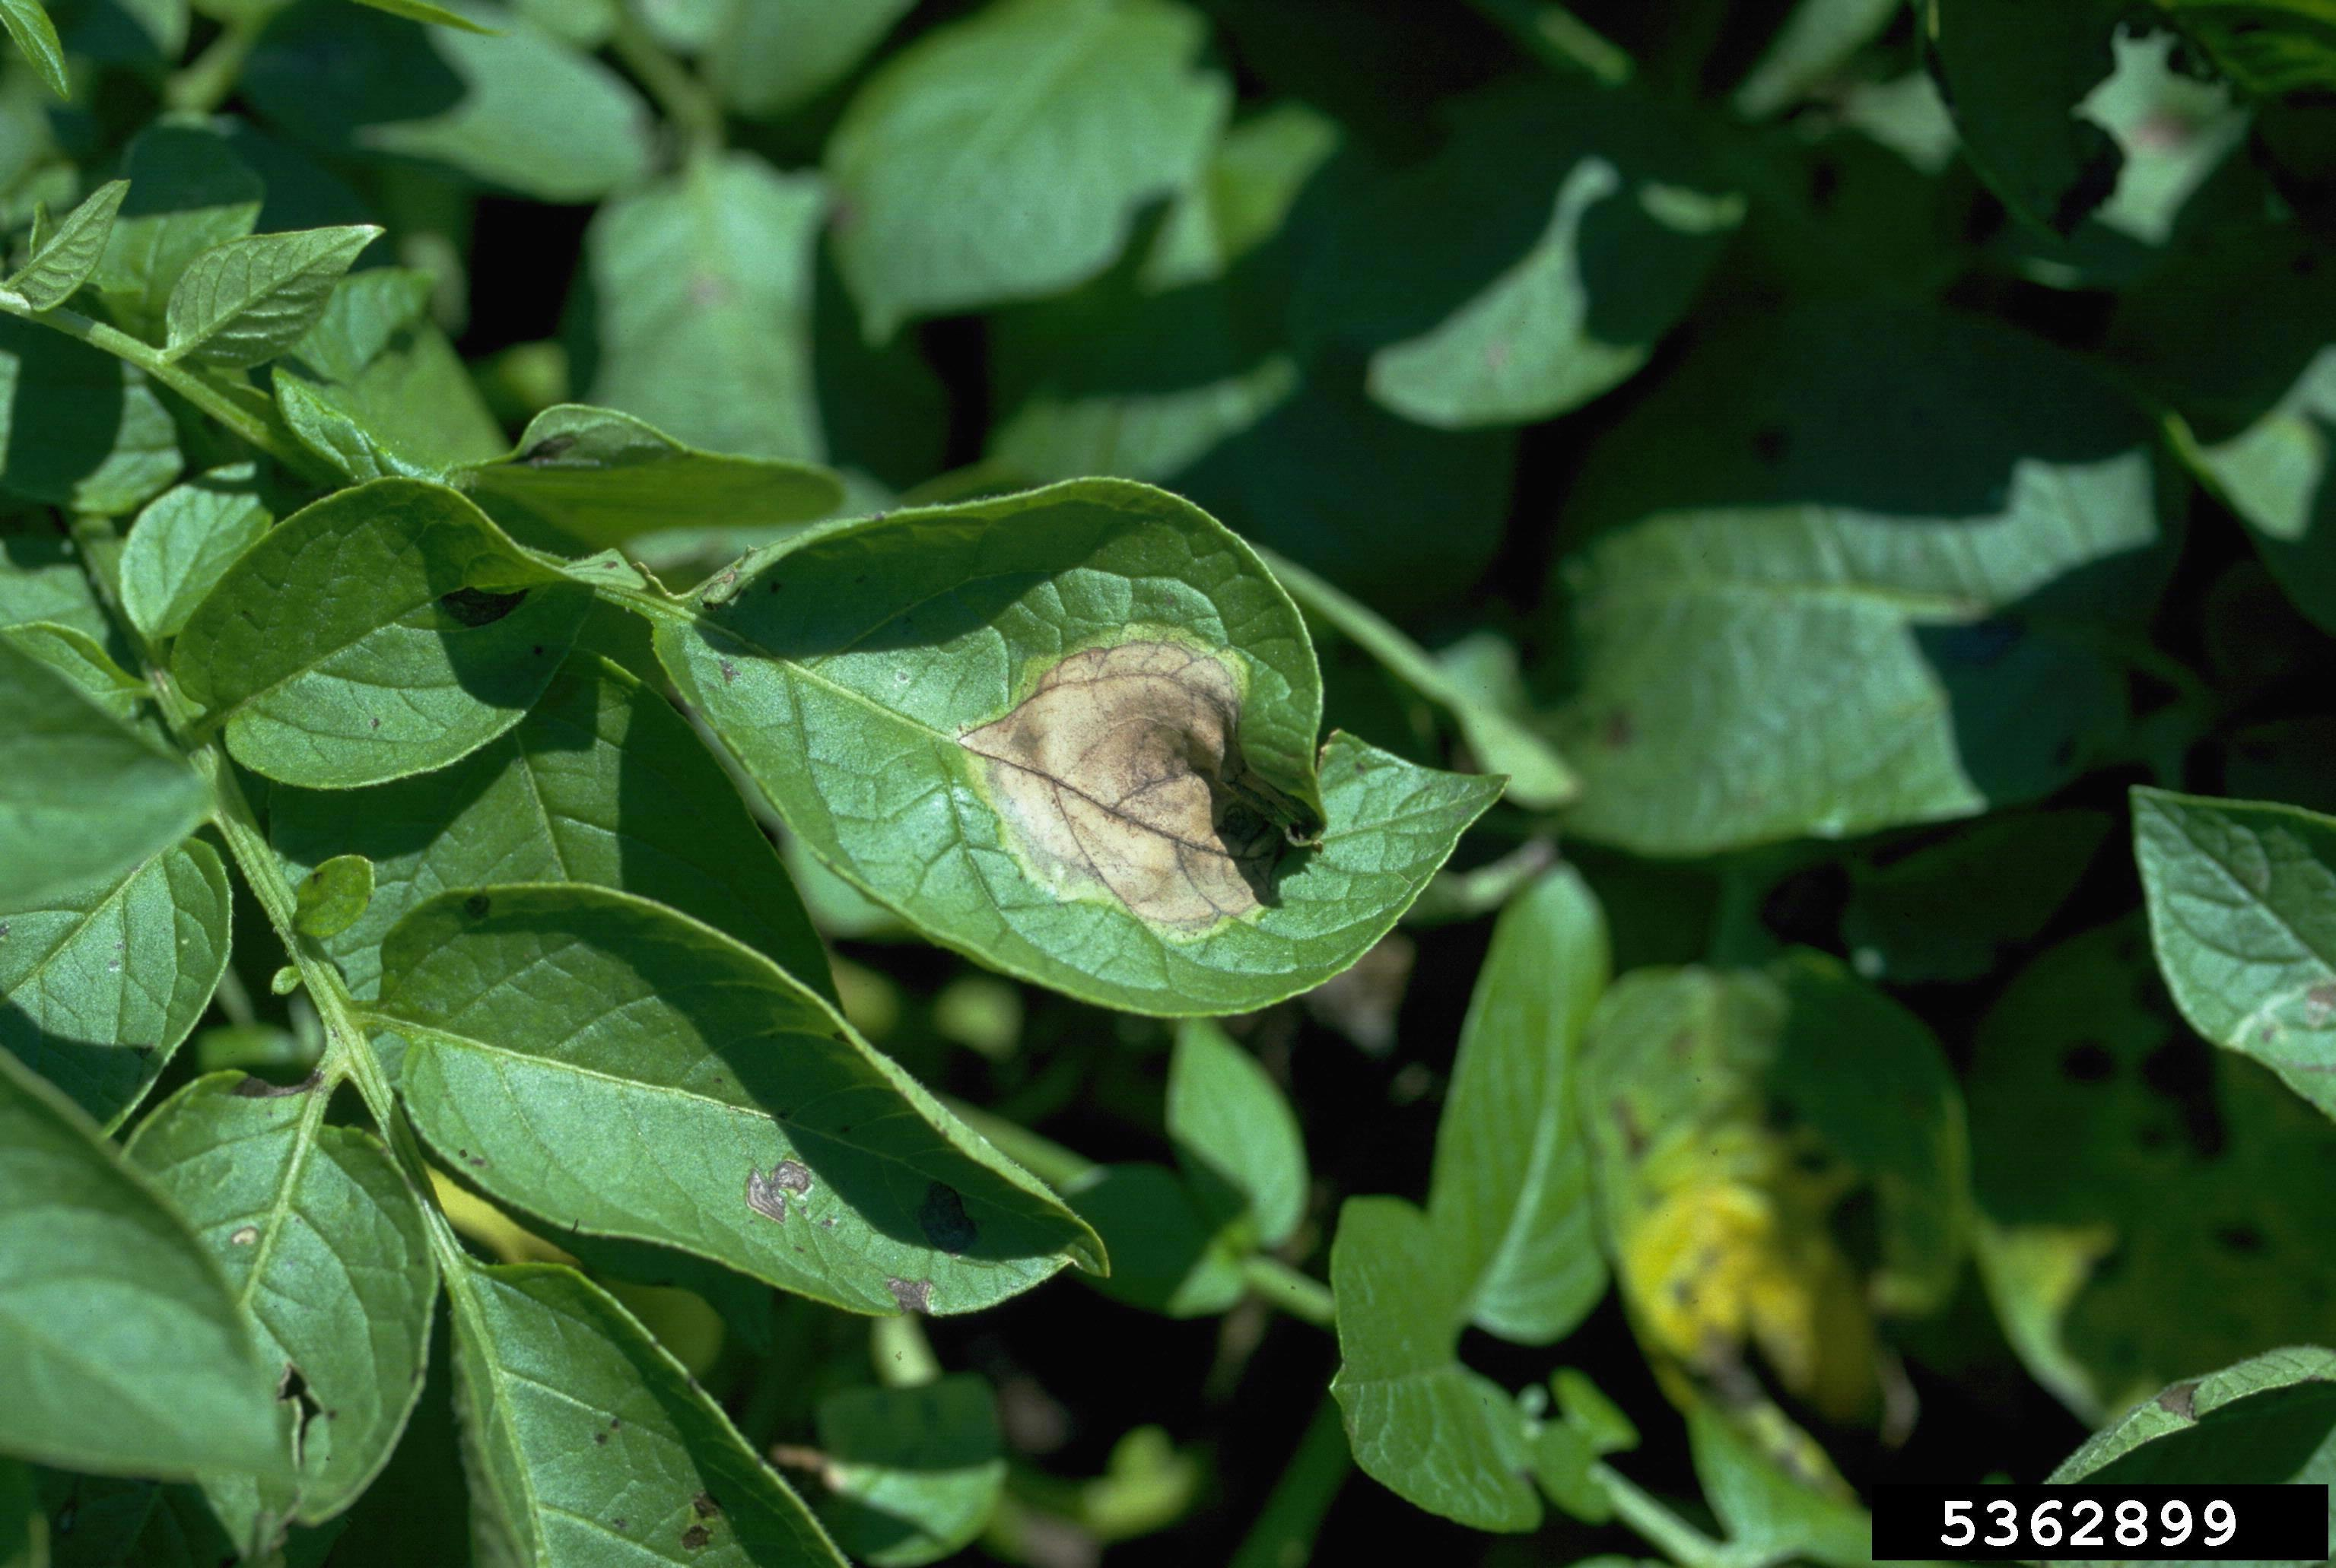Potato leaf late blight: (640, 469, 1519, 1017), (367, 864, 1115, 1325), (156, 462, 635, 793), (434, 381, 847, 544)
